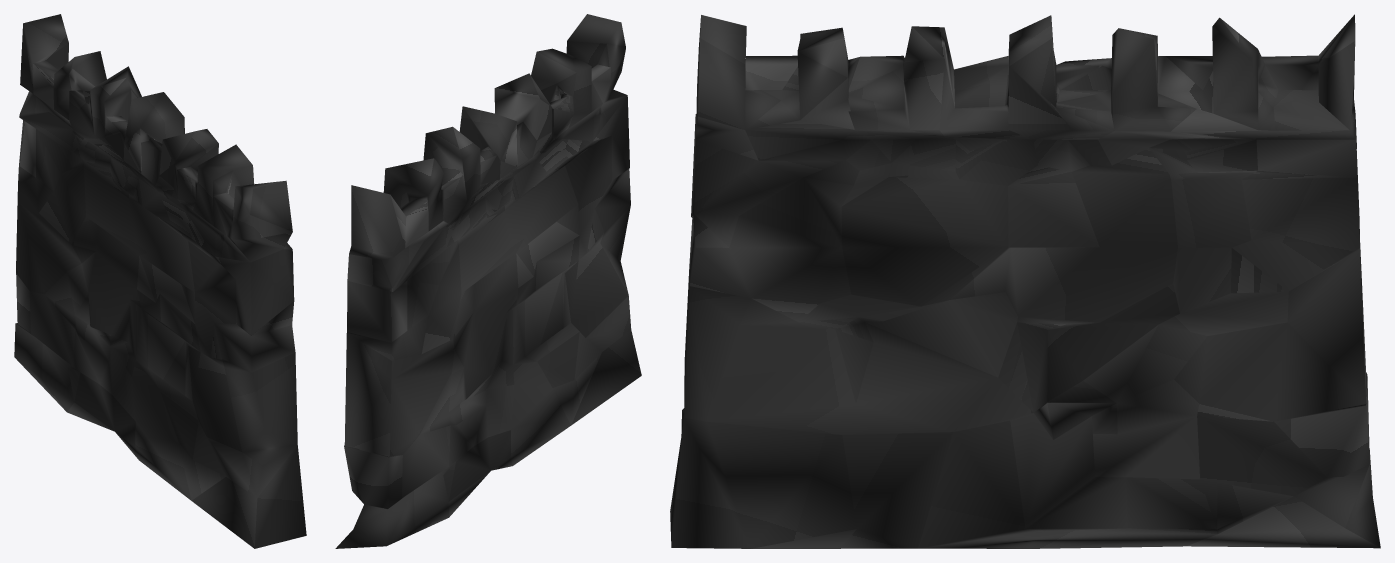
File: castle_wall_diamond_black_lo.glb
3 views of the same model, side by side, from view 1: azimuth 30°, elevation 25°; view 2: azimuth 150°, elevation 25°; view 3: azimuth 270°, elevation 25° (orthographic). The views are drawn at different scales.
Visible parts, largest first — view 1: tripo_node_598d3892-e960-4b4c-a166-150d45067cd7; view 2: tripo_node_598d3892-e960-4b4c-a166-150d45067cd7; view 3: tripo_node_598d3892-e960-4b4c-a166-150d45067cd7.
Part boxes in pixels (x1,y1,x2,y2): tripo_node_598d3892-e960-4b4c-a166-150d45067cd7: [14, 14, 306, 548]; tripo_node_598d3892-e960-4b4c-a166-150d45067cd7: [335, 14, 641, 548]; tripo_node_598d3892-e960-4b4c-a166-150d45067cd7: [670, 14, 1380, 548].
Size of the model in its own units: 0.1248 by 0.7642 by 0.9758.
Materials: 1 (1 with a texture image).
